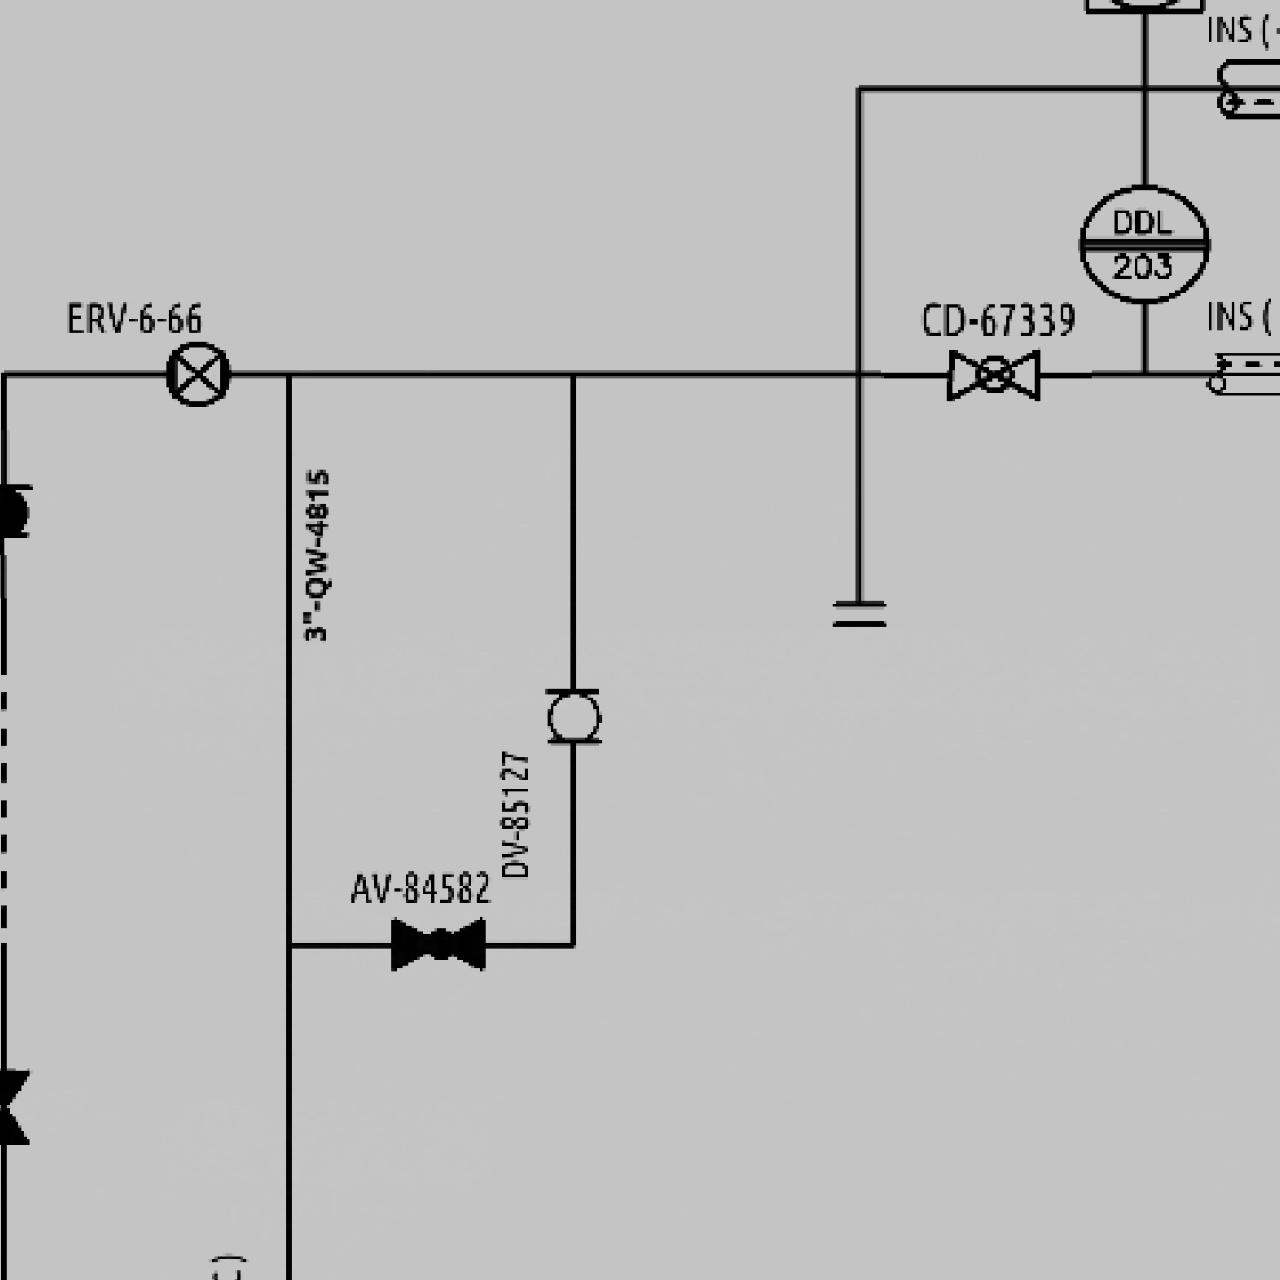Control-Panel: (1074, 173, 1213, 313)
